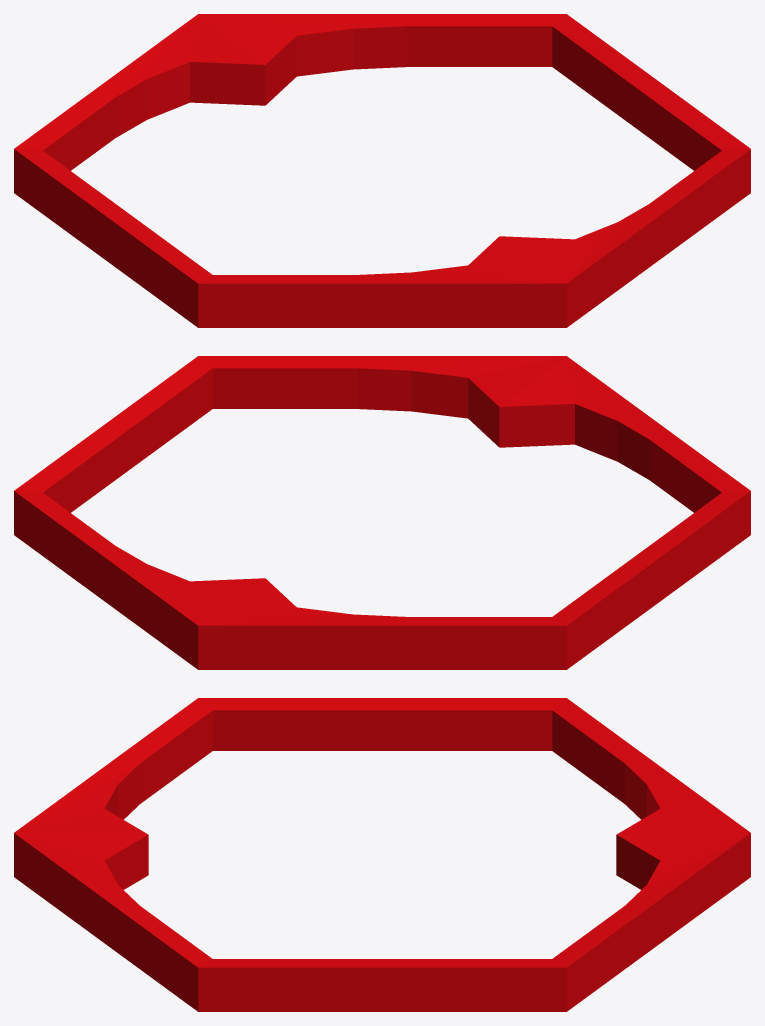
The model's file is Marker v3.fbx.
3 views of the same model, one above another, from view 1: azimuth 30°, elevation 25°; view 2: azimuth 150°, elevation 25°; view 3: azimuth 270°, elevation 25° (orthographic).
Parts seen in each view (by area): view 1: Cylinder; view 2: Cylinder; view 3: Cylinder.
Part boxes in pixels (x1=…): Cylinder: x1=14, y1=14, x2=750, y2=327; Cylinder: x1=14, y1=356, x2=750, y2=669; Cylinder: x1=14, y1=698, x2=750, y2=1011.
Bounding box in the file's own units: 173 × 13.25 × 200.
